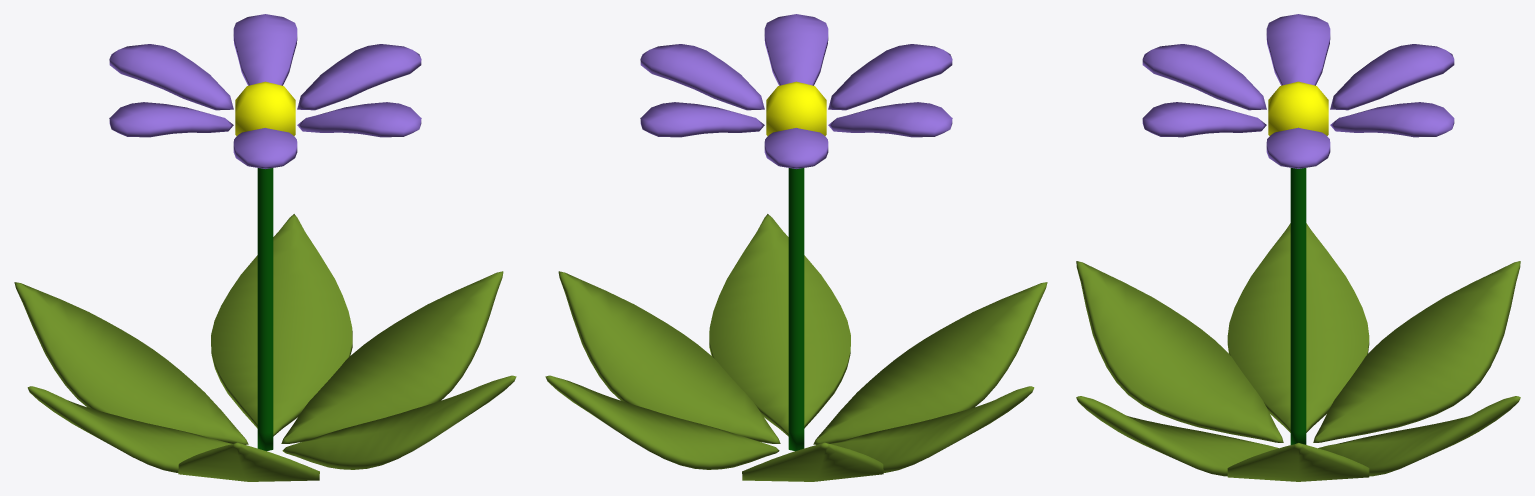
File: hepatica_0003.obj
3 renders of one model, left to right at view 1: azimuth 30°, elevation 25°; view 2: azimuth 150°, elevation 25°; view 3: azimuth 270°, elevation 25°, orthographic.
Parts seen in each view (by area): view 1: hepatica_0003; view 2: hepatica_0003; view 3: hepatica_0003.
Boxes of the visible parts, x1,y1,x2,y2 form: hepatica_0003: (14,14,516,481); hepatica_0003: (545,14,1047,481); hepatica_0003: (1076,14,1520,481).
Bounding box in the file's own units: 3.02 × 2.22 × 2.44.
1 material, 1 textured.
